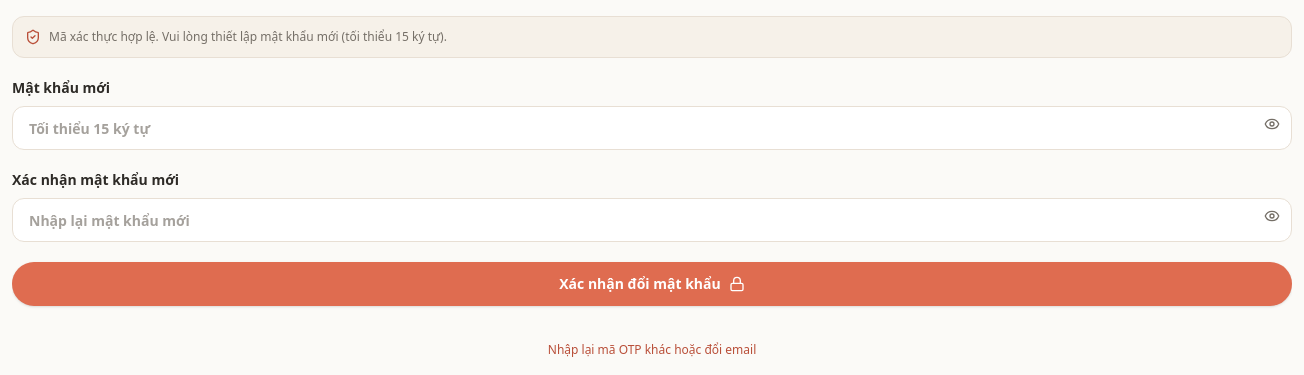
Test: ResetPasswordForm › renders new password fields directly when token is in URL
The width and height of the screenshot is (1304, 375).
Type "ValidPassword12345" into the password field labelled "Mật khẩu mới".
click(652, 128); type("ValidPassword12345")  # box [12,106,1292,150]
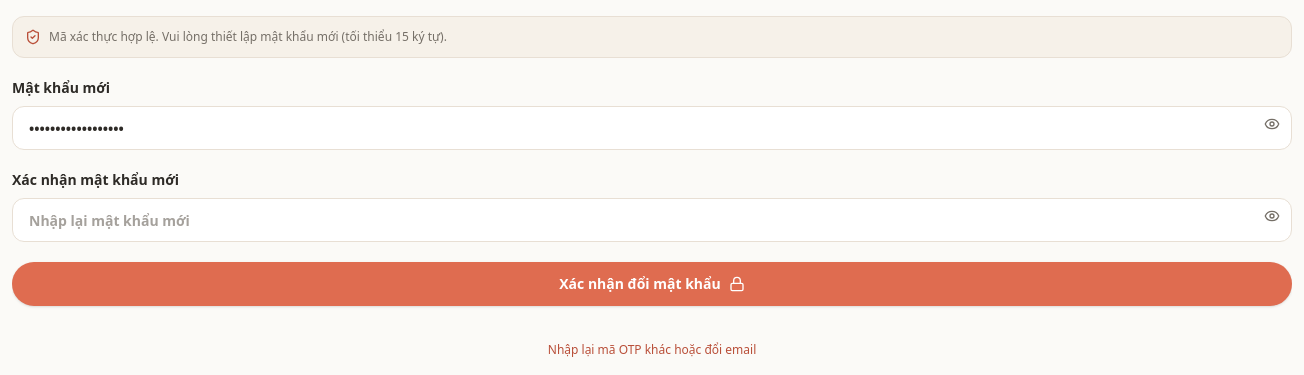
Type "ValidPassword12345" into the password field labelled "Xác nhận mật khẩu mới".
click(652, 220); type("ValidPassword12345")  # box [12,198,1292,242]
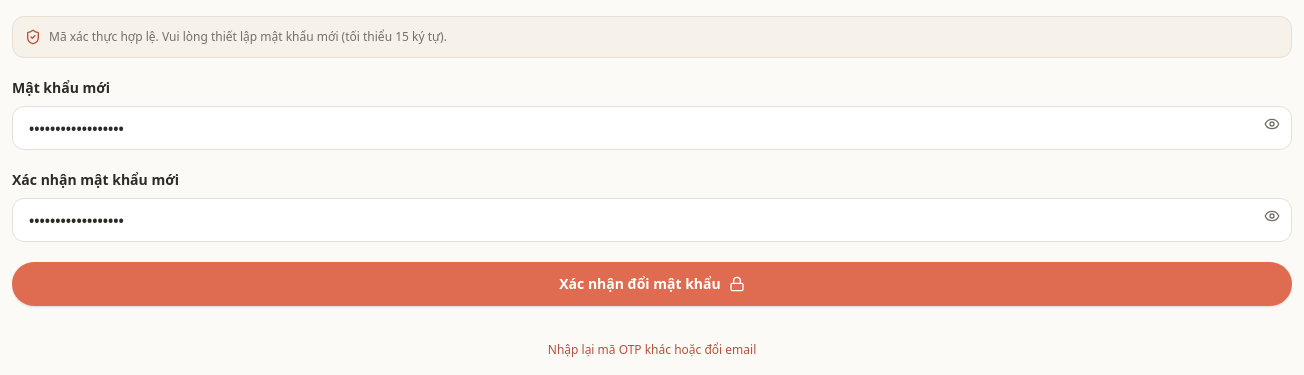
Submit the form named "Xác nhận đổi mật khẩu"
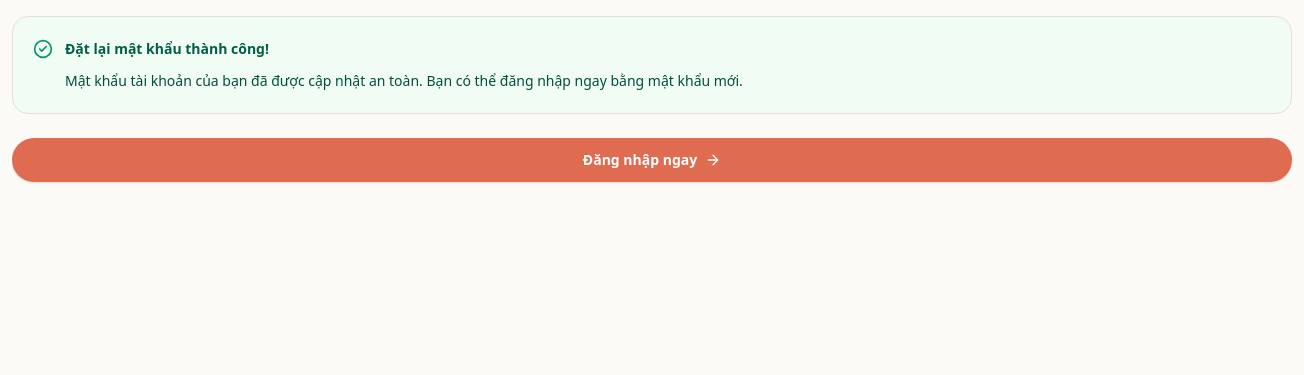
Expected: the text "Đặt lại mật khẩu thành công!" is shown, [65,39,269,58]
